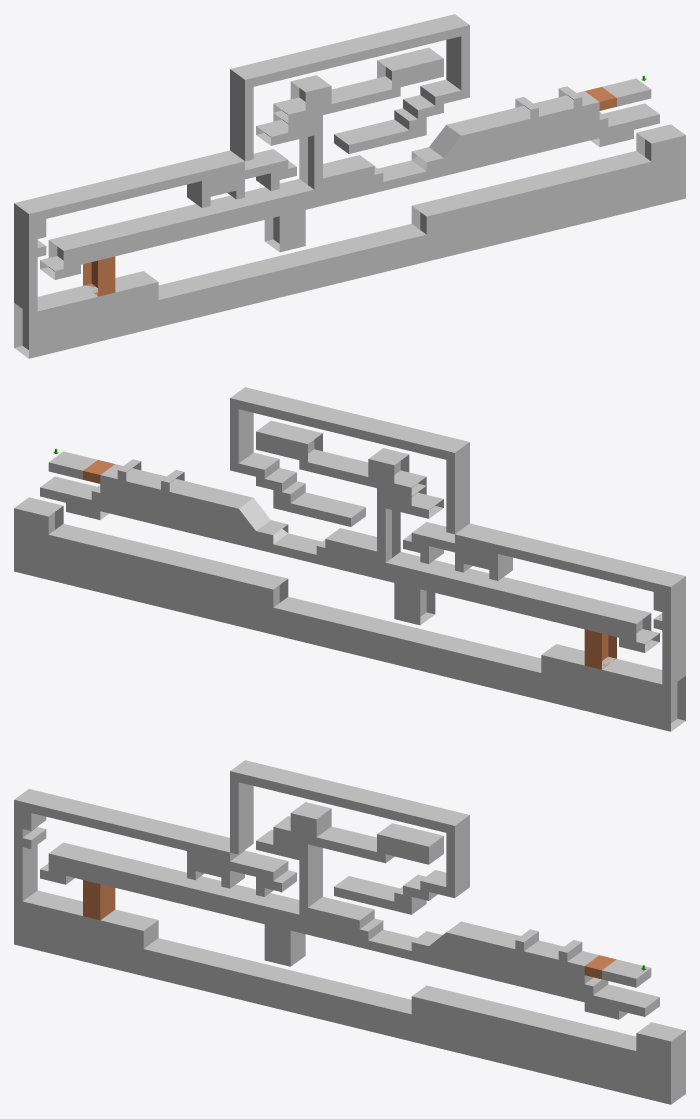
The model's file is LEVEL_1.fbx.
3 renders of one model, top to bottom at view 1: azimuth 30°, elevation 25°; view 2: azimuth 150°, elevation 25°; view 3: azimuth 330°, elevation 25°, orthographic.
Parts seen in each view (by area): view 1: Cube.007, Cube.010, Cube.047, Cube.013, Cube.003, Cube.027, Cube.018, Cube.008, Cube.043, Cube.026, Cube.039, Cube.045 (+20 smaller); view 2: Cube.007, Cube.010, Cube.047, Cube.013, Cube.003, Cube.027, Cube.018, Cube.008, Cube.043, Cube.026, Cube.039, Cube.045 (+21 smaller); view 3: Cube.007, Cube.010, Cube.047, Cube.013, Cube.003, Cube.027, Cube.018, Cube.008, Cube.039, Cube.043, Cube.045, Cube.029 (+16 smaller).
Boxes of the visible parts, box(x1,y1,x2,y2) form: Cube.007: box(411, 151, 651, 261); Cube.010: box(158, 224, 426, 326); Cube.047: box(48, 179, 314, 268); Cube.013: box(14, 271, 158, 358); Cube.003: box(446, 91, 599, 171); Cube.027: box(239, 16, 461, 86); Cube.018: box(14, 161, 201, 222); Cube.008: box(636, 124, 685, 206); Cube.043: box(273, 76, 400, 123); Cube.026: box(230, 67, 253, 161); Cube.039: box(323, 155, 374, 205); Cube.045: box(377, 47, 443, 89); Cube.007: box(48, 524, 288, 634); Cube.010: box(273, 597, 541, 699); Cube.047: box(385, 552, 651, 641); Cube.013: box(541, 644, 685, 731); Cube.003: box(100, 464, 253, 544); Cube.027: box(238, 389, 460, 459); Cube.018: box(498, 534, 685, 595); Cube.008: box(14, 497, 63, 579); Cube.043: box(299, 451, 426, 496); Cube.026: box(446, 440, 469, 534); Cube.039: box(325, 528, 376, 578); Cube.045: box(256, 420, 322, 462); Cube.007: box(411, 985, 636, 1096); Cube.010: box(143, 938, 411, 1041); Cube.047: box(48, 842, 299, 932); Cube.013: box(14, 890, 158, 975); Cube.003: box(446, 921, 598, 1002); Cube.027: box(238, 762, 460, 832); Cube.018: box(14, 789, 201, 850); Cube.008: box(636, 1022, 685, 1104); Cube.039: box(308, 897, 374, 947); Cube.043: box(273, 816, 394, 863); Cube.045: box(377, 823, 443, 864); Cube.029: box(446, 813, 469, 898).
Bounding box in the file's own units: 76 × 25 × 3.
